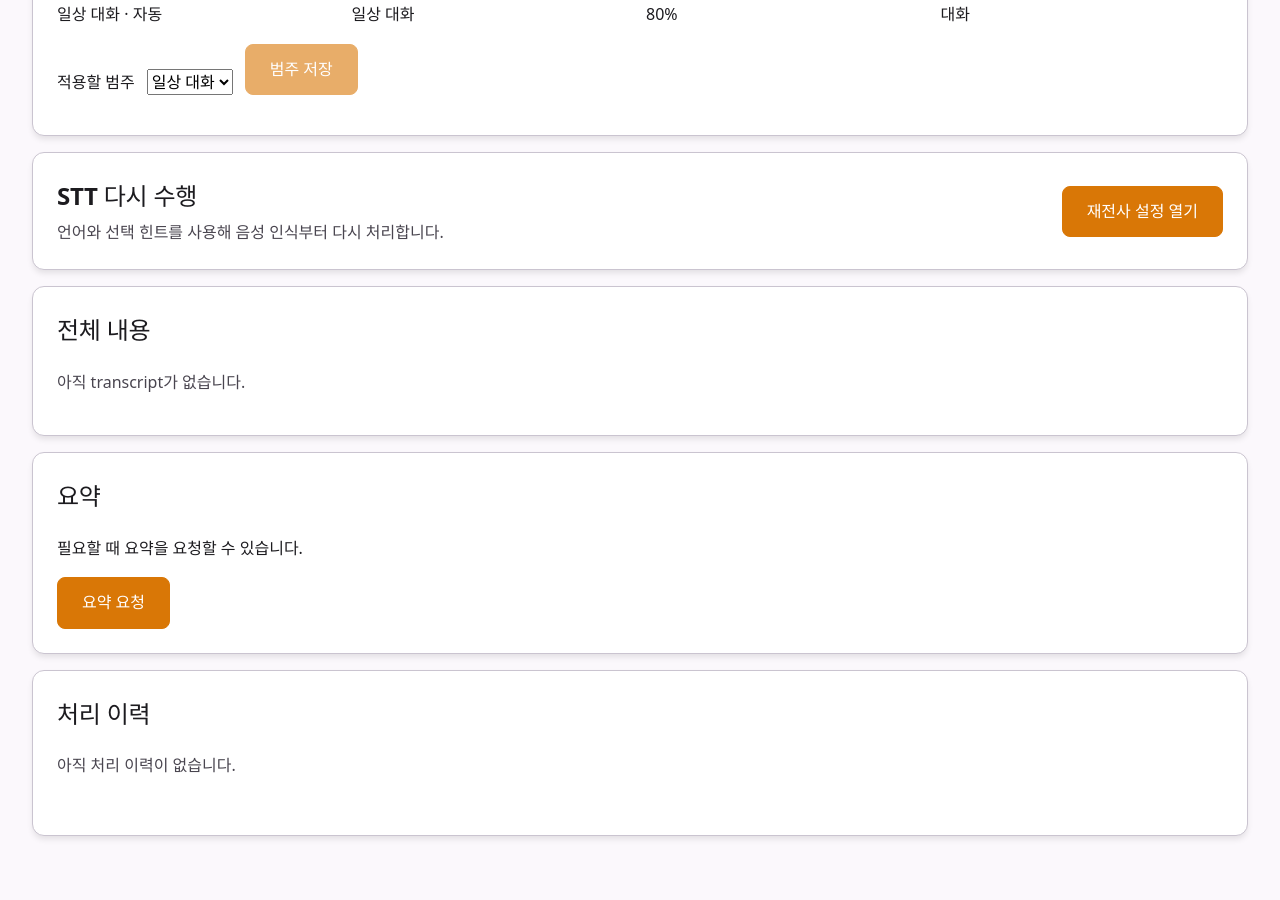
Test: 수동 요약 중복 클릭은 한 번만 등록하고 활성 요청 중 버튼을 막는다
(page scrolled)
Double-click the button "요약 요청": (114, 603) [57, 577, 170, 629]
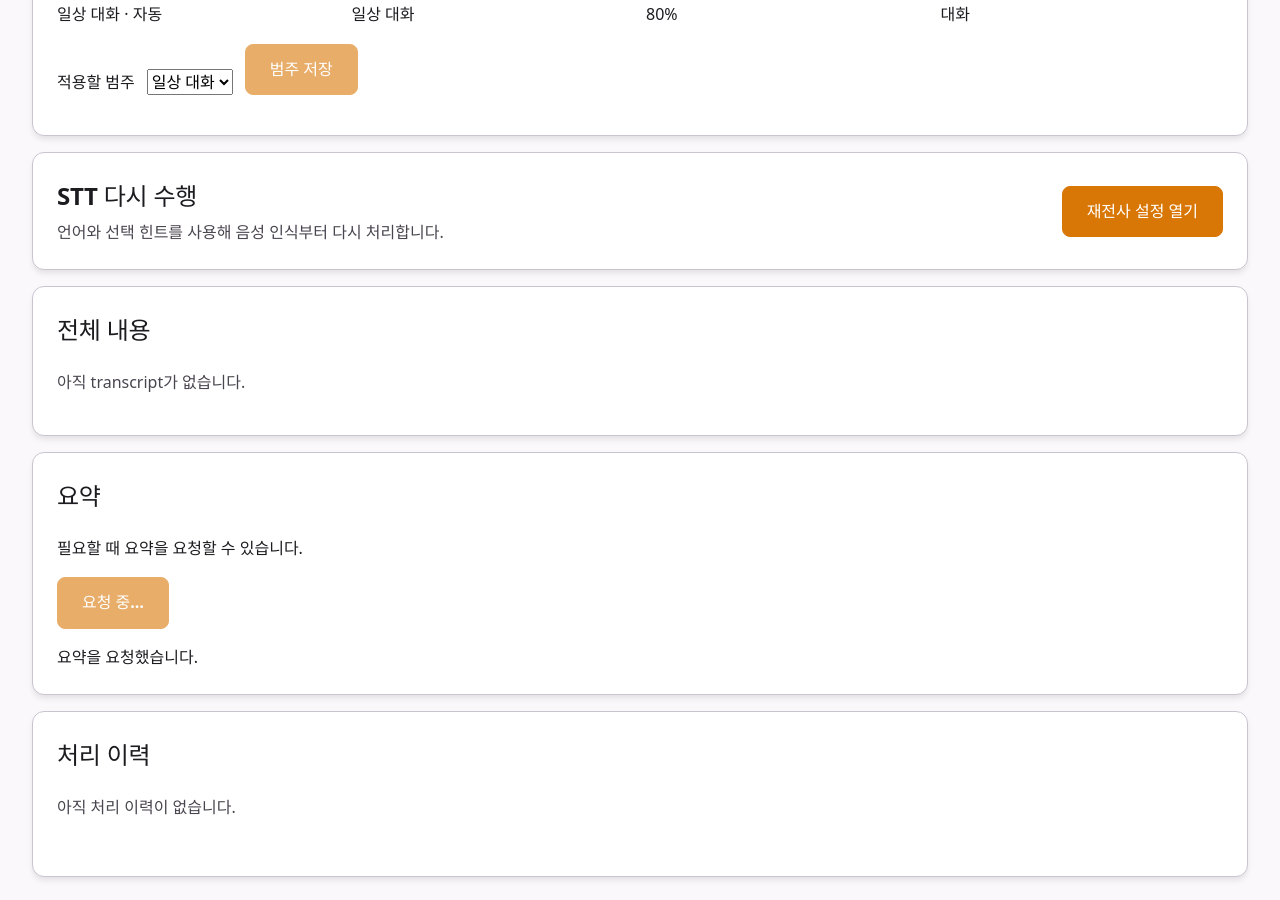
expect the text "요약을 요청했습니다." is shown: met, box [57, 646, 198, 668]
